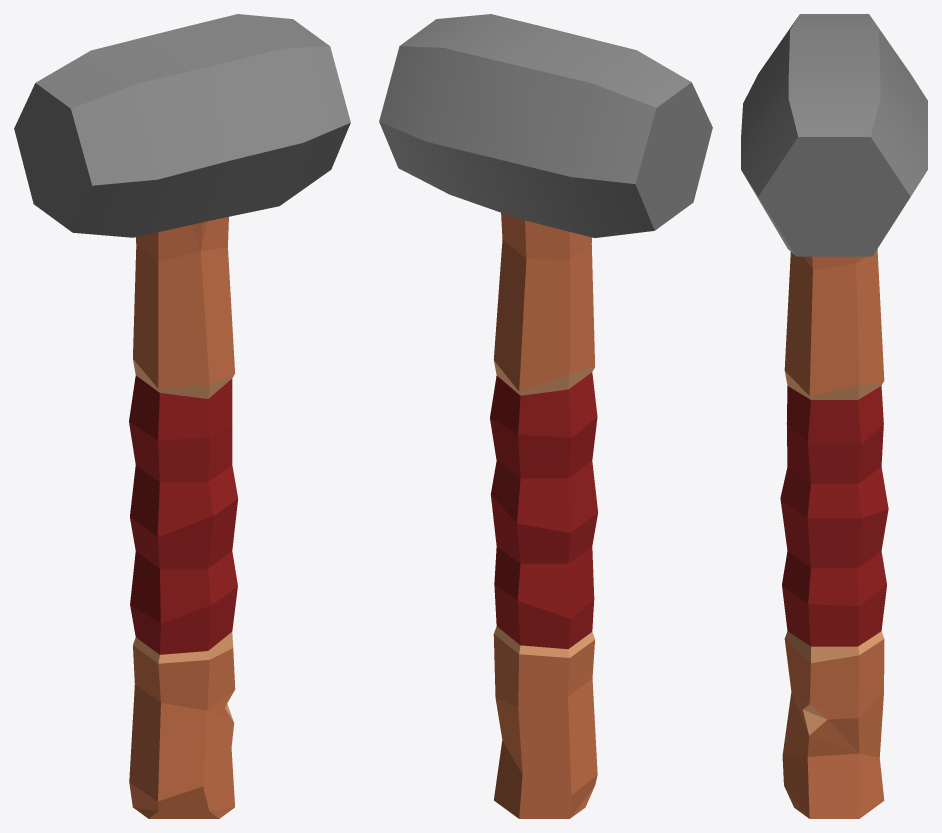
Rendered from hammer.fbx.
The picture shows the model from 3 angles, left to right: view 1: azimuth 30°, elevation 25°; view 2: azimuth 150°, elevation 25°; view 3: azimuth 270°, elevation 25°; orthographic projection. The views are drawn at different scales.
Parts seen in each view (by area): view 1: WoodWork_Hammer; view 2: WoodWork_Hammer; view 3: WoodWork_Hammer.
Boxes of the visible parts, x1=… form: WoodWork_Hammer: x1=14, y1=14, x2=350, y2=818; WoodWork_Hammer: x1=379, y1=14, x2=712, y2=818; WoodWork_Hammer: x1=741, y1=14, x2=927, y2=818.
Bounding box in the file's own units: 4.11 × 11.5 × 2.64.
Materials: 1 (1 with a texture image).
